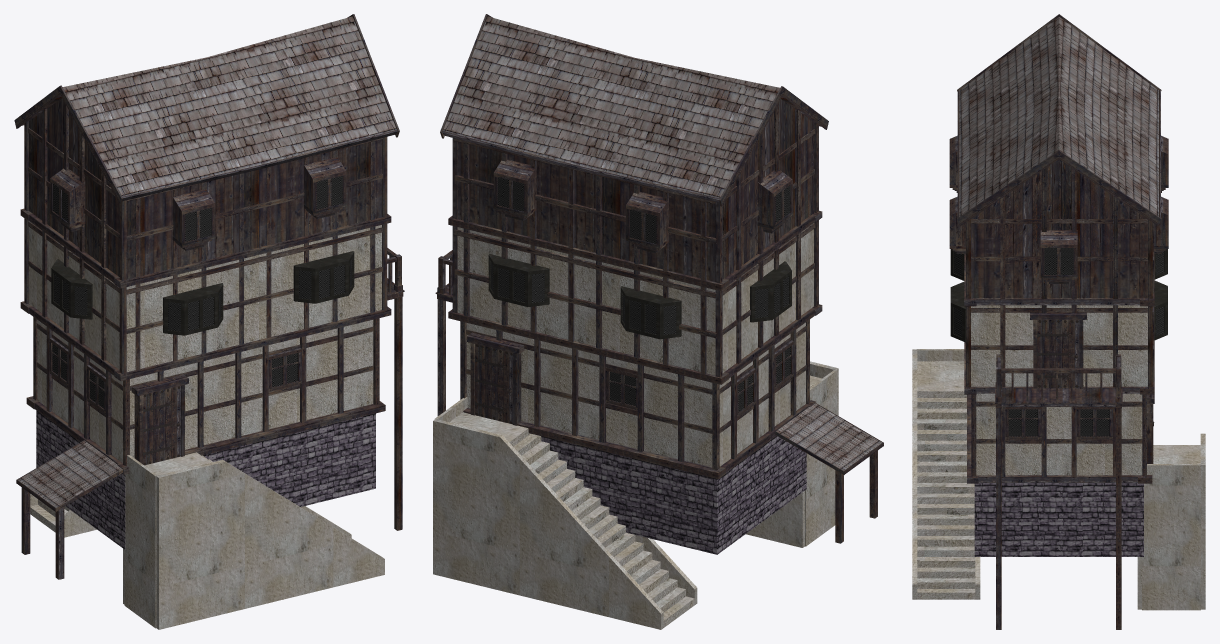
File: house76.dae
3 renders of one model, left to right at view 1: azimuth 30°, elevation 25°; view 2: azimuth 150°, elevation 25°; view 3: azimuth 270°, elevation 25°, orthographic. The views are drawn at different scales.
Visible parts, largest first — view 1: House4_Roof, Stair1LongWideSide2, House4_Level3, House4_Level2, House4_Level1, House4_Level0, House4_Level1_Beams, House4_Level2_Beams, House4_Level3_Beams, Stair1LongWideBack, Roof2Outer, House4_Level2_SeperatorBeams (+22 smaller); view 2: House4_Roof, Stair1LongWideSide2_001, House4_Level3, House4_Level2, House4_Level0, House4_Level1, House4_Level2_Beams, House4_Level1_Beams, House4_Level3_Beams, Stair1LongWide_001, Roof2Outer, House4_Level2_SeperatorBeams (+23 smaller); view 3: House4_Roof, House4_Level3, Stair1LongWide, House4_Level0, Stair1LongWideBack_001, House4_Level2, House4_Level1, House4_Level3_Beams, House4_Roof_Frame, House4_Level1_Beams, House4_Level2_Beams, Door1_002 (+25 smaller).
Part boxes in pixels (box(x1,y1,x2,y2)): House4_Roof: box(62, 16, 396, 196); Stair1LongWideSide2: box(156, 460, 384, 629); House4_Level3: box(29, 98, 381, 279); House4_Level2: box(29, 221, 381, 371); House4_Level1: box(37, 320, 373, 462); House4_Level0: box(36, 410, 375, 549); House4_Level1_Beams: box(33, 317, 379, 465); House4_Level2_Beams: box(24, 218, 387, 373); House4_Level3_Beams: box(24, 102, 387, 280); Stair1LongWideBack: box(124, 455, 157, 628); Roof2Outer: box(18, 440, 121, 507); House4_Level2_SeperatorBeams: box(20, 208, 391, 288); House4_Roof: box(443, 16, 779, 198); Stair1LongWideSide2_001: box(433, 419, 663, 629); House4_Level3: box(457, 99, 814, 281); House4_Level2: box(457, 223, 813, 375); House4_Level0: box(541, 436, 806, 554); House4_Level1: box(466, 322, 805, 467); House4_Level2_Beams: box(452, 220, 818, 377); House4_Level1_Beams: box(460, 319, 809, 470); House4_Level3_Beams: box(452, 102, 818, 283); Stair1LongWide_001: box(450, 412, 694, 627); Roof2Outer: box(776, 403, 882, 470); House4_Level2_SeperatorBeams: box(448, 210, 822, 291); House4_Roof: box(959, 17, 1158, 216); House4_Level3: box(971, 159, 1147, 298); Stair1LongWide: box(917, 361, 975, 599); House4_Level0: box(974, 483, 1143, 556); Stair1LongWideBack_001: box(1142, 464, 1200, 610); House4_Level2: box(971, 305, 1147, 386); House4_Level1: box(976, 393, 1142, 475); House4_Level3_Beams: box(966, 168, 1154, 298); House4_Roof_Frame: box(957, 14, 1161, 226); House4_Level1_Beams: box(971, 394, 1146, 476); House4_Level2_Beams: box(966, 305, 1154, 387); Door1_002: box(1037, 320, 1079, 388).
Size of the model in its own units: 10.82 by 7.95 by 14.1.
Materials: 17 (17 with a texture image).
